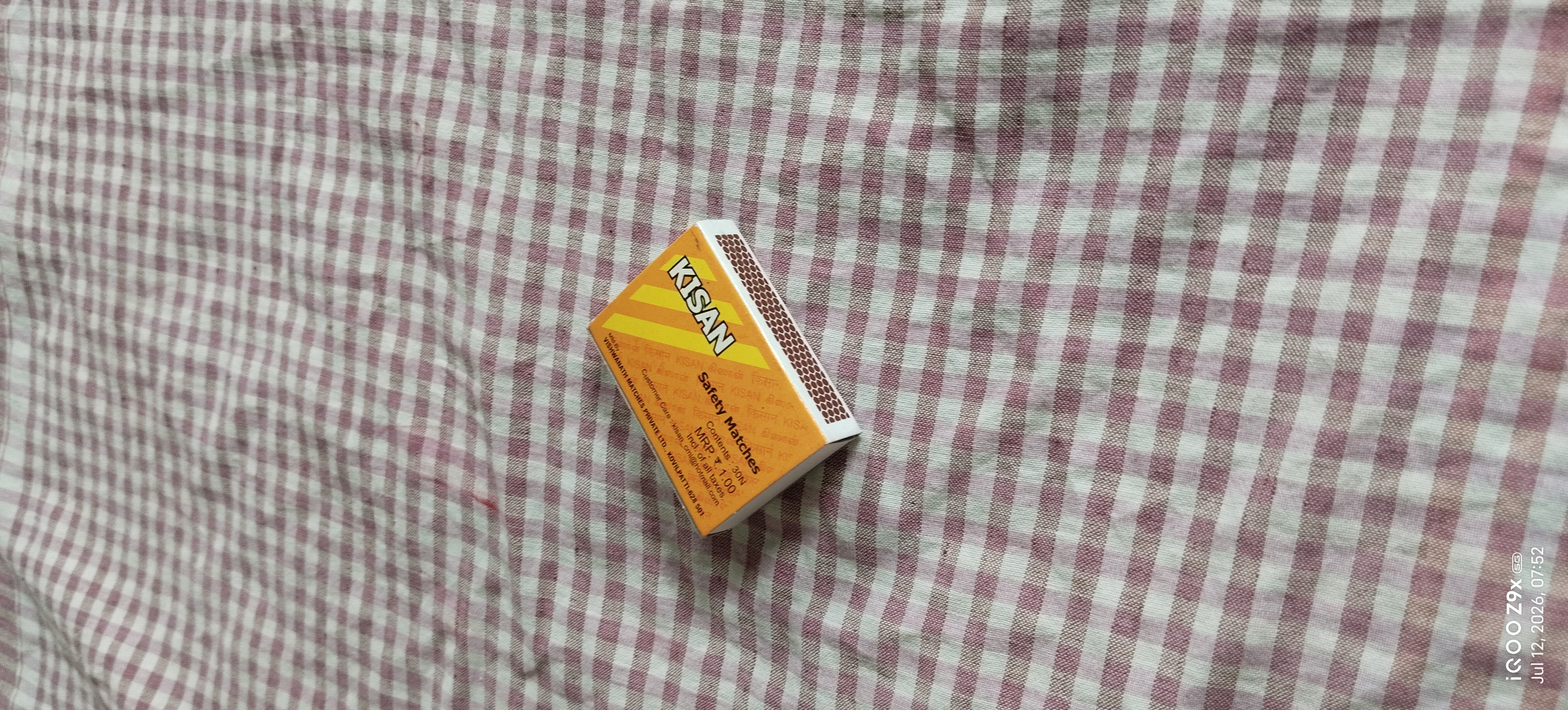matchbox: (550, 204, 883, 582)
